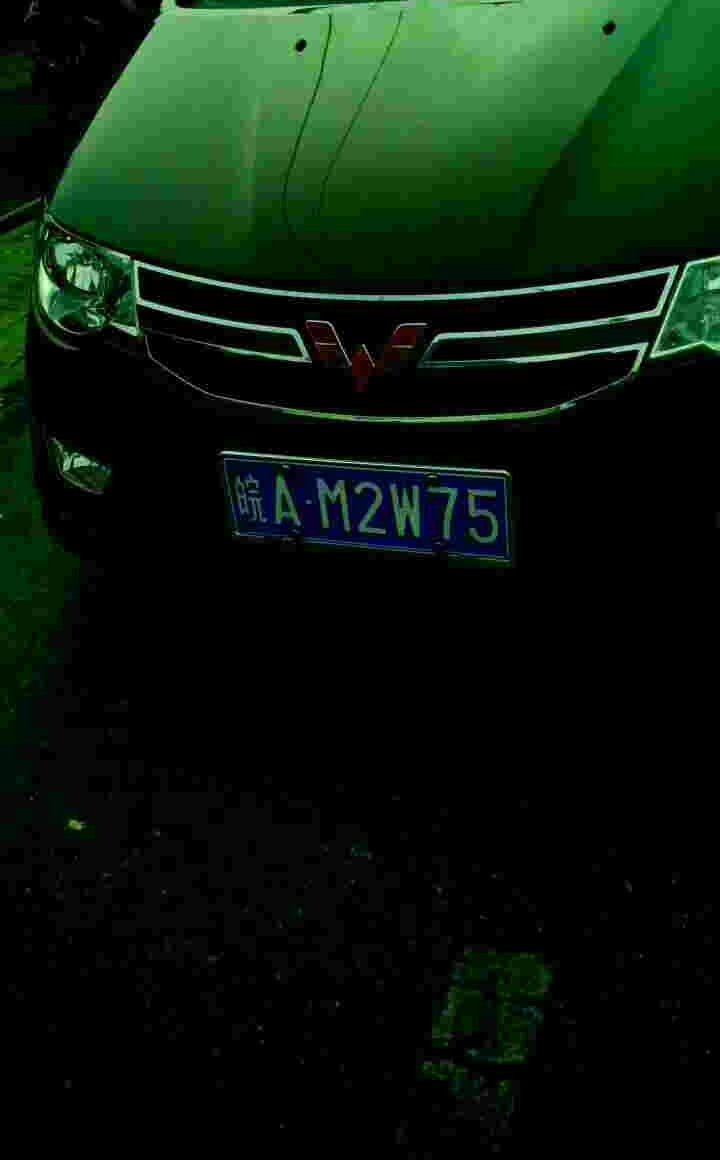license_plate: (220, 463, 518, 565)
